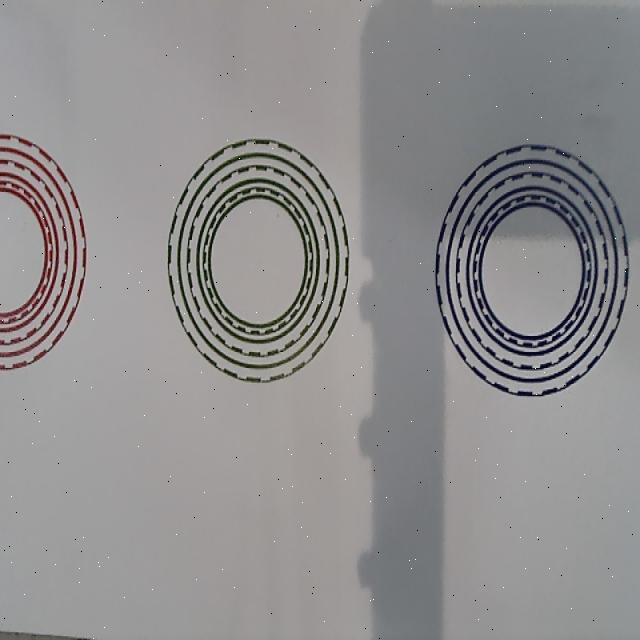b: (435, 143, 629, 397)
g: (168, 138, 350, 384)
